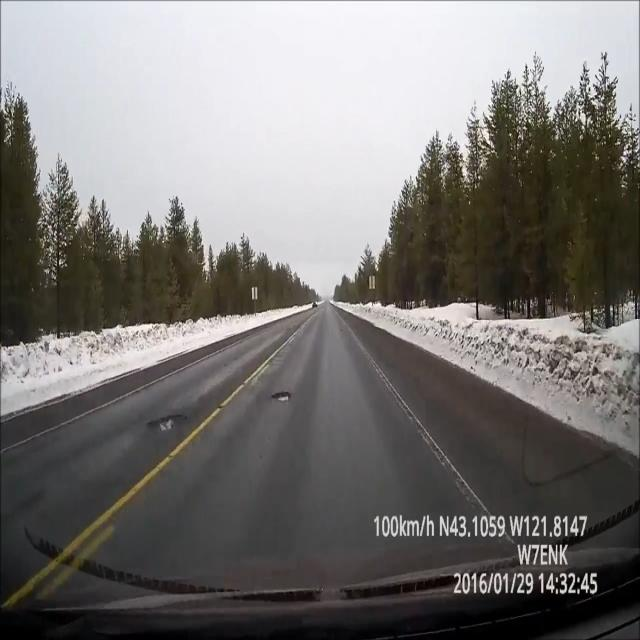Pothole: (272, 378, 291, 410)
